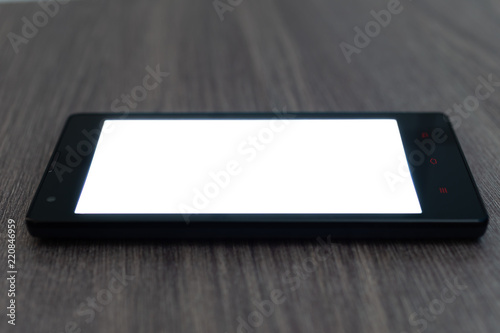Cell Phone: (25, 113, 492, 238)
